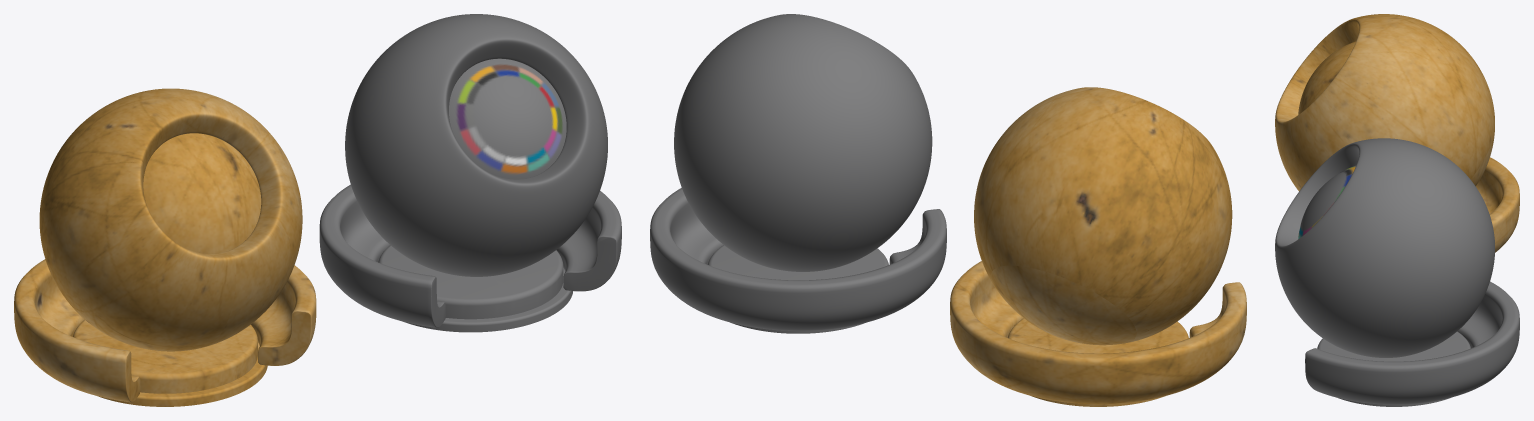
The model's file is standard_surface_look_brass_tiled.mtlx.glb.
The picture shows the model from 3 angles, left to right: view 1: azimuth 30°, elevation 25°; view 2: azimuth 150°, elevation 25°; view 3: azimuth 270°, elevation 25°; orthographic projection. The views are drawn at different scales.
Parts seen in each view (by area): view 1: Preview_Mesh, Preview_Mesh_material_1, Calibration_Mesh_material_1, Calibration_Mesh; view 2: Preview_Mesh, Preview_Mesh_material_1, Calibration_Mesh, Calibration_Mesh_material_1; view 3: Preview_Mesh_material_1, Preview_Mesh, Calibration_Mesh_material_1, Calibration_Mesh.
Boxes of the visible parts, x1,y1,x2,y2 form: Preview_Mesh: (14, 88, 316, 402); Preview_Mesh_material_1: (319, 14, 621, 327); Calibration_Mesh_material_1: (378, 58, 573, 332); Calibration_Mesh: (73, 133, 267, 406); Preview_Mesh: (950, 87, 1246, 404); Preview_Mesh_material_1: (650, 14, 946, 330); Calibration_Mesh: (1008, 318, 1188, 406); Calibration_Mesh_material_1: (708, 245, 888, 333); Preview_Mesh_material_1: (1275, 138, 1519, 404); Preview_Mesh: (1275, 14, 1519, 252); Calibration_Mesh_material_1: (1298, 165, 1470, 406); Calibration_Mesh: (1298, 41, 1355, 114).
Size of the model in its own units: 4.64 by 2.09 by 2.08.
Materials: 2 (2 with a texture image).
